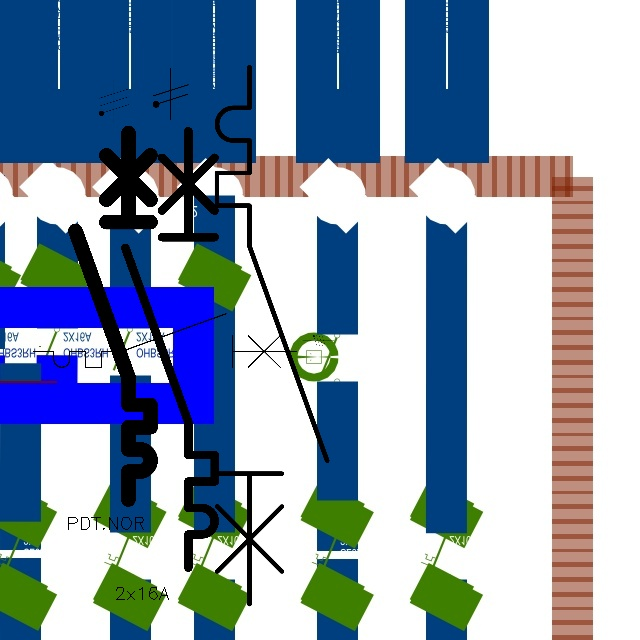interruptor_termomagnetico: (203, 53, 341, 617), (114, 119, 226, 578), (66, 123, 160, 509), (27, 307, 303, 374)
